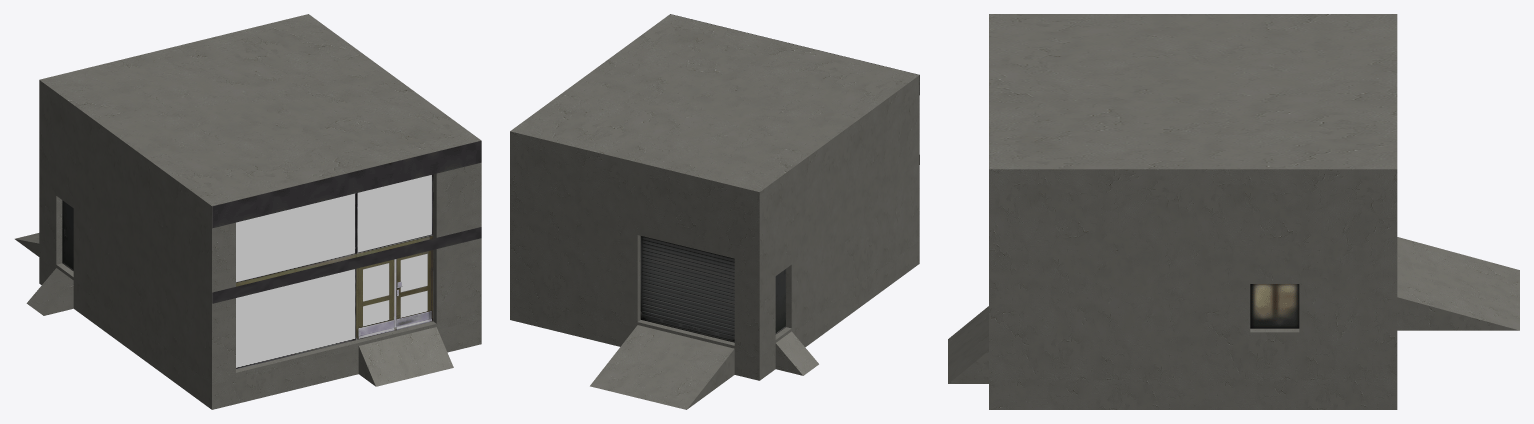
The model's file is mid_house_4.fbx.
3 renders of one model, left to right at view 1: azimuth 30°, elevation 25°; view 2: azimuth 150°, elevation 25°; view 3: azimuth 270°, elevation 25°, orthographic. The views are drawn at different scales.
Parts seen in each view (by area): view 1: mid_house_4; view 2: mid_house_4; view 3: mid_house_4.
Boxes of the visible parts, box(x1,y1,x2,y2) form: mid_house_4: box(15, 14, 481, 409); mid_house_4: box(510, 14, 919, 409); mid_house_4: box(948, 14, 1519, 409).
Bounding box in the file's own units: 1000 × 650 × 1400.
